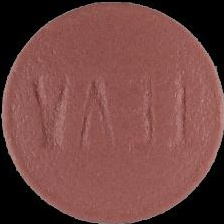68788-8970: (0, 0, 224, 224)
